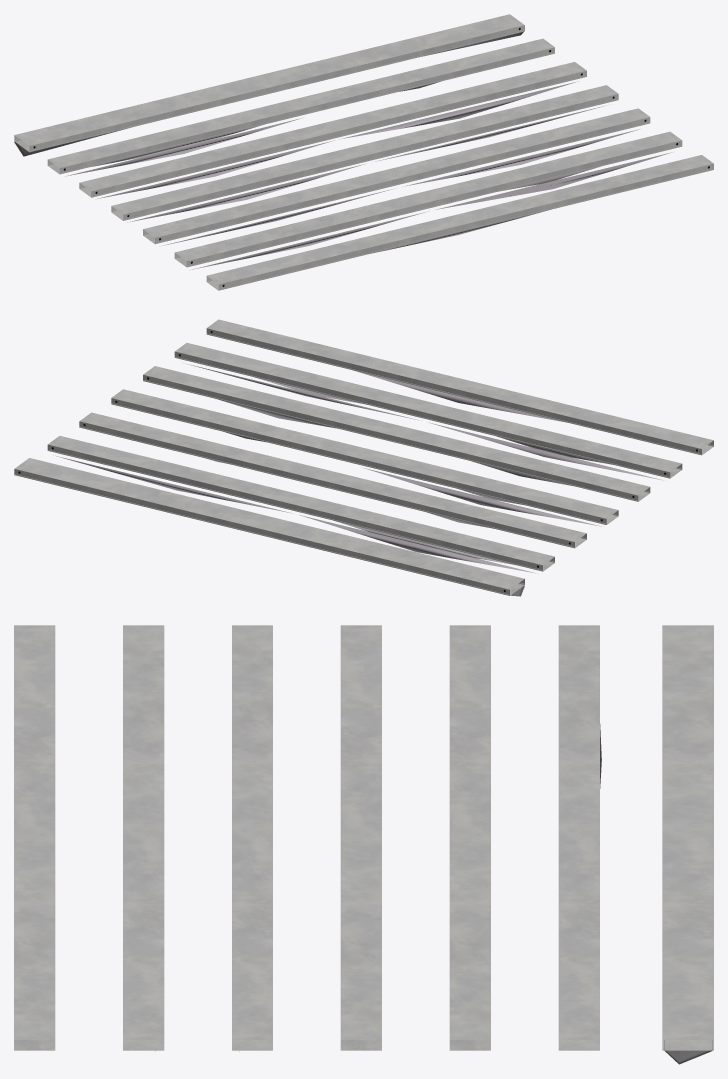
The model's file is mounted_fluorescent_lights_game.gltf.
3 renders of one model, top to bottom at view 1: azimuth 30°, elevation 25°; view 2: azimuth 150°, elevation 25°; view 3: azimuth 270°, elevation 25°, orthographic. The views are drawn at different scales.
Visible parts, largest first — view 1: mounted_fluorescent_lights; view 2: mounted_fluorescent_lights; view 3: mounted_fluorescent_lights.
Boxes of the visible parts, <box> form: mounted_fluorescent_lights: <box>14,14,713,290</box>; mounted_fluorescent_lights: <box>14,319,713,596</box>; mounted_fluorescent_lights: <box>14,625,713,1064</box>.
Bounding box in the file's own units: 0.9038 × 0.034 × 0.6426.
Materials: 2 (2 with a texture image).
